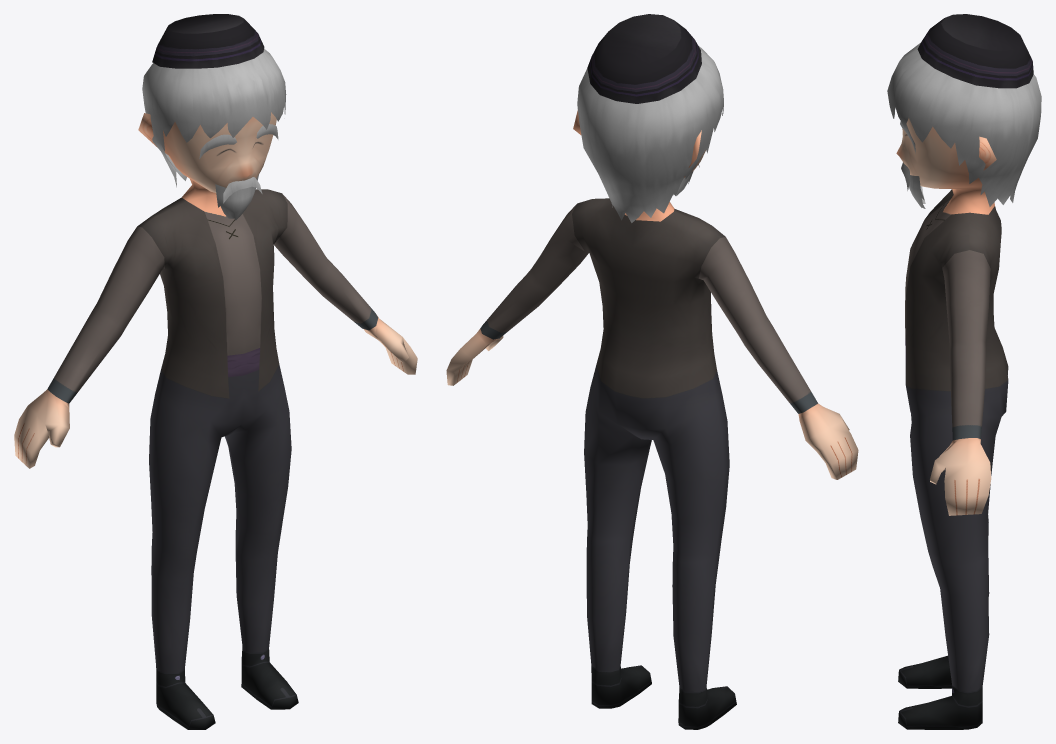
3 views of the same model, side by side, from view 1: azimuth 30°, elevation 25°; view 2: azimuth 150°, elevation 25°; view 3: azimuth 270°, elevation 25° (orthographic). The views are drawn at different scales.
Parts seen in each view (by area): view 1: Peasant Elder Halden, Hat, Beard; view 2: Peasant Elder Halden, Hat; view 3: Peasant Elder Halden, Hat, Beard.
Boxes of the visible parts, x1,y1,x2,y2 form: Peasant Elder Halden: (14, 49, 417, 729); Hat: (152, 14, 264, 68); Beard: (215, 174, 258, 220); Peasant Elder Halden: (446, 46, 858, 729); Hat: (587, 14, 701, 103); Peasant Elder Halden: (887, 42, 1041, 729); Hat: (917, 14, 1033, 88); Beard: (909, 175, 925, 208).
Size of the model in its own units: 511 by 851 by 175.
